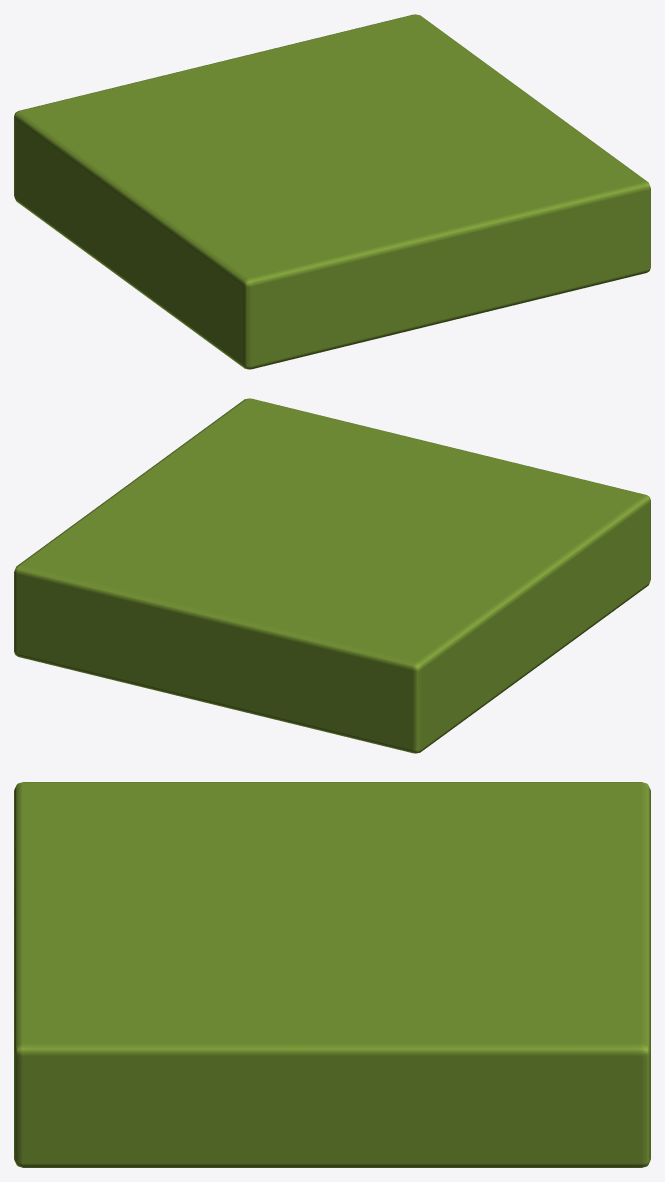
Rendered from arena_bonta_chucho.fbx.
3 views of the same model, one above another, from view 1: azimuth 30°, elevation 25°; view 2: azimuth 150°, elevation 25°; view 3: azimuth 270°, elevation 25° (orthographic). The views are drawn at different scales.
Visible parts, largest first — view 1: arena_bonta_chucho_cube_43, arena_bonta_chucho_cube_45, arena_bonta_chucho_cube_44, arena_bonta_chucho_cube_47, arena_bonta_chucho_cube_48, arena_bonta_chucho_cube_46, arena_bonta_chucho_cube_49, arena_bonta_chucho_cube_29, arena_bonta_chucho_cube_08, arena_bonta_chucho_cube_15, arena_bonta_chucho_cube_22, arena_bonta_chucho_cube_36 (+37 smaller); view 2: arena_bonta_chucho_cube_01, arena_bonta_chucho_cube_03, arena_bonta_chucho_cube_02, arena_bonta_chucho_cube_05, arena_bonta_chucho_cube_06, arena_bonta_chucho_cube_04, arena_bonta_chucho_cube_07, arena_bonta_chucho_cube_15, arena_bonta_chucho_cube_29, arena_bonta_chucho_cube_36, arena_bonta_chucho_cube_08, arena_bonta_chucho_cube_22 (+37 smaller); view 3: arena_bonta_chucho_cube_14, arena_bonta_chucho_cube_21, arena_bonta_chucho_cube_28, arena_bonta_chucho_cube_35, arena_bonta_chucho_cube_42, arena_bonta_chucho_cube_07, arena_bonta_chucho_cube_49, arena_bonta_chucho_cube_13, arena_bonta_chucho_cube_20, arena_bonta_chucho_cube_27, arena_bonta_chucho_cube_34, arena_bonta_chucho_cube_41 (+37 smaller).
Boxes of the visible parts, box(x1,y1,x2,y2) form: arena_bonta_chucho_cube_43: box(213, 243, 304, 369); arena_bonta_chucho_cube_45: box(329, 215, 420, 342); arena_bonta_chucho_cube_44: box(271, 229, 362, 356); arena_bonta_chucho_cube_47: box(446, 186, 537, 313); arena_bonta_chucho_cube_48: box(504, 172, 595, 299); arena_bonta_chucho_cube_46: box(388, 200, 478, 328); arena_bonta_chucho_cube_49: box(562, 159, 650, 285); arena_bonta_chucho_cube_29: box(145, 194, 236, 321); arena_bonta_chucho_cube_08: box(45, 120, 136, 247); arena_bonta_chucho_cube_15: box(78, 145, 169, 272); arena_bonta_chucho_cube_22: box(112, 169, 203, 296); arena_bonta_chucho_cube_36: box(179, 218, 270, 346); arena_bonta_chucho_cube_01: box(360, 627, 451, 753); arena_bonta_chucho_cube_03: box(244, 599, 335, 726); arena_bonta_chucho_cube_02: box(302, 613, 393, 740); arena_bonta_chucho_cube_05: box(127, 570, 218, 697); arena_bonta_chucho_cube_06: box(69, 556, 160, 683); arena_bonta_chucho_cube_04: box(186, 584, 276, 712); arena_bonta_chucho_cube_07: box(14, 543, 102, 669); arena_bonta_chucho_cube_15: box(428, 578, 519, 705); arena_bonta_chucho_cube_29: box(495, 529, 586, 656); arena_bonta_chucho_cube_36: box(528, 504, 619, 631); arena_bonta_chucho_cube_08: box(394, 602, 485, 730); arena_bonta_chucho_cube_22: box(461, 553, 552, 680); arena_bonta_chucho_cube_14: box(469, 1009, 559, 1167); arena_bonta_chucho_cube_21: box(378, 1009, 468, 1167); arena_bonta_chucho_cube_28: box(287, 1009, 377, 1167); arena_bonta_chucho_cube_35: box(196, 1009, 286, 1167); arena_bonta_chucho_cube_42: box(105, 1009, 195, 1167); arena_bonta_chucho_cube_07: box(560, 1009, 650, 1167); arena_bonta_chucho_cube_49: box(14, 1009, 104, 1167); arena_bonta_chucho_cube_13: box(469, 970, 559, 1009); arena_bonta_chucho_cube_20: box(378, 970, 468, 1009); arena_bonta_chucho_cube_27: box(287, 970, 377, 1009); arena_bonta_chucho_cube_34: box(196, 970, 286, 1009); arena_bonta_chucho_cube_41: box(105, 970, 195, 1009).
Size of the model in its own units: 700 by 150 by 700.
Materials: 1 (1 with a texture image).
